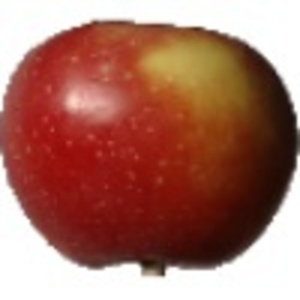maçã braeburn: (1, 16, 299, 271)
